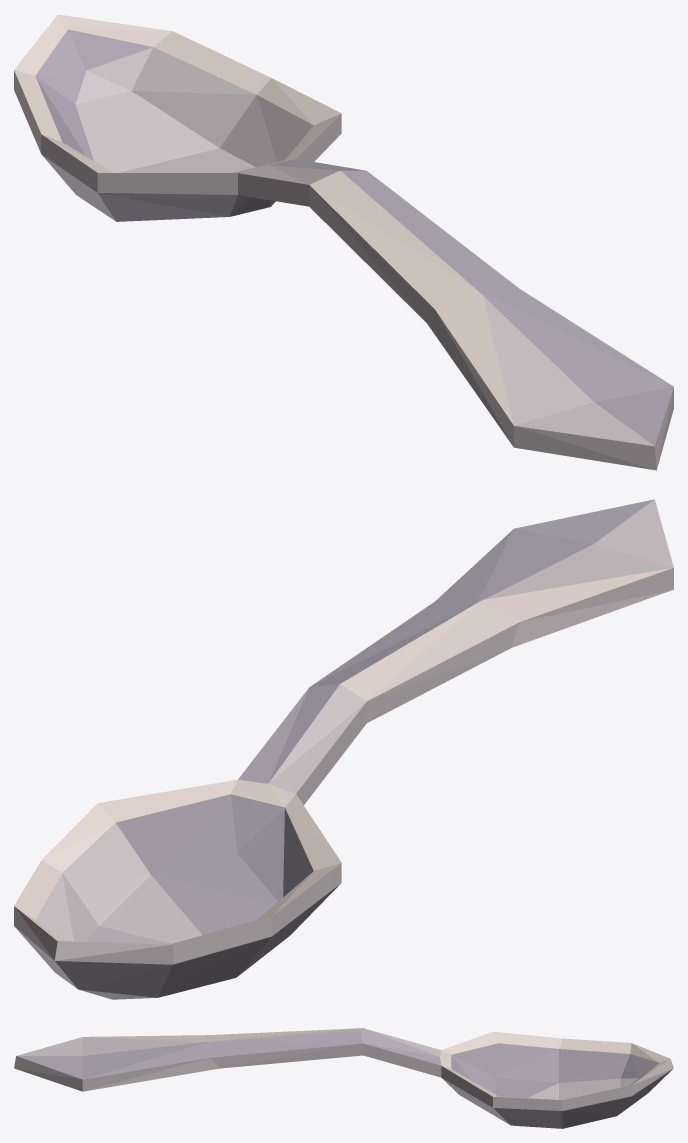
Rendered from spoon.fbx.
3 renders of one model, top to bottom at view 1: azimuth 30°, elevation 25°; view 2: azimuth 150°, elevation 25°; view 3: azimuth 270°, elevation 25°, orthographic. The views are drawn at different scales.
Visible parts, largest first — view 1: pCube1; view 2: pCube1; view 3: pCube1.
Part boxes in pixels (bbox=[...]): pCube1: bbox=[14, 14, 673, 470]; pCube1: bbox=[14, 499, 673, 999]; pCube1: bbox=[14, 1028, 673, 1128].
Size of the model in its own units: 2.38 by 1.52 by 10.17.
